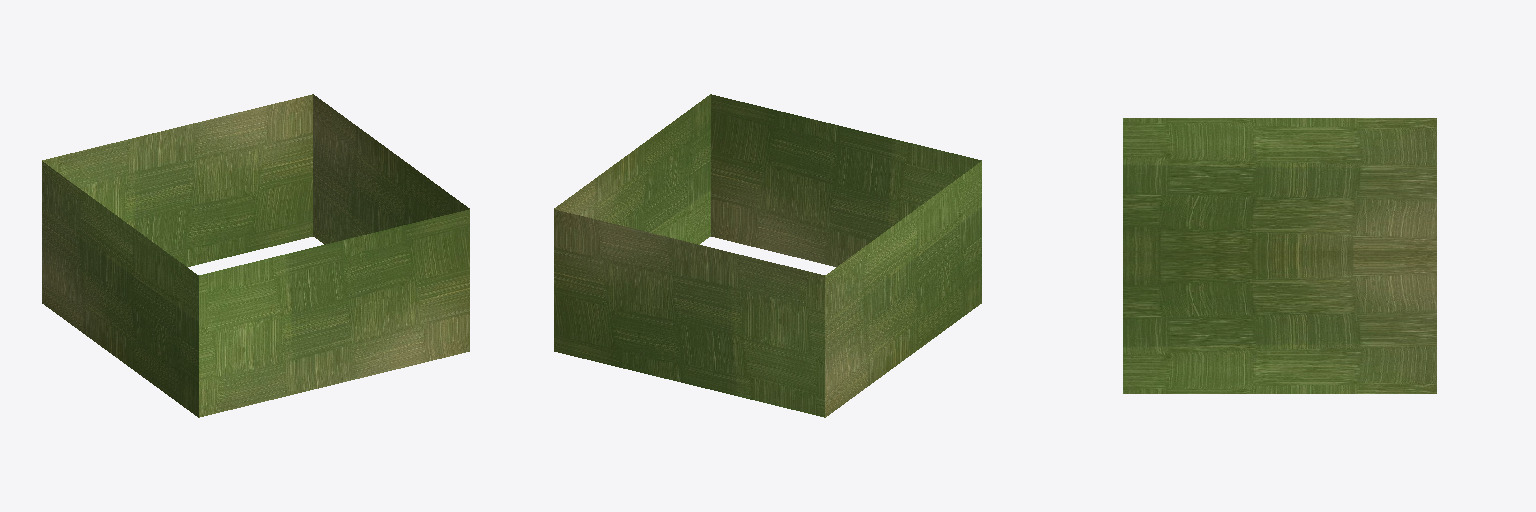
3 renders of one model, left to right at view 1: azimuth 30°, elevation 25°; view 2: azimuth 150°, elevation 25°; view 3: azimuth 270°, elevation 25°, orthographic.
Parts seen in each view (by area): view 1: Plane.002, Plane.003, Plane.001, Plane; view 2: Plane.003, Plane.002, Plane.001, Plane; view 3: Plane, Plane.001.
Part boxes in pixels (x1,y1,x2,y2): Plane.002: (199, 209, 469, 417); Plane.003: (42, 94, 312, 266); Plane.001: (42, 161, 198, 417); Plane: (313, 94, 469, 244); Plane.003: (554, 209, 824, 417); Plane.002: (711, 94, 981, 266); Plane.001: (825, 161, 981, 417); Plane: (554, 94, 710, 244); Plane: (1123, 251, 1436, 393); Plane.001: (1123, 118, 1436, 250).
Size of the model in its own units: 20 by 10 by 20.
Materials: 1 (1 with a texture image).